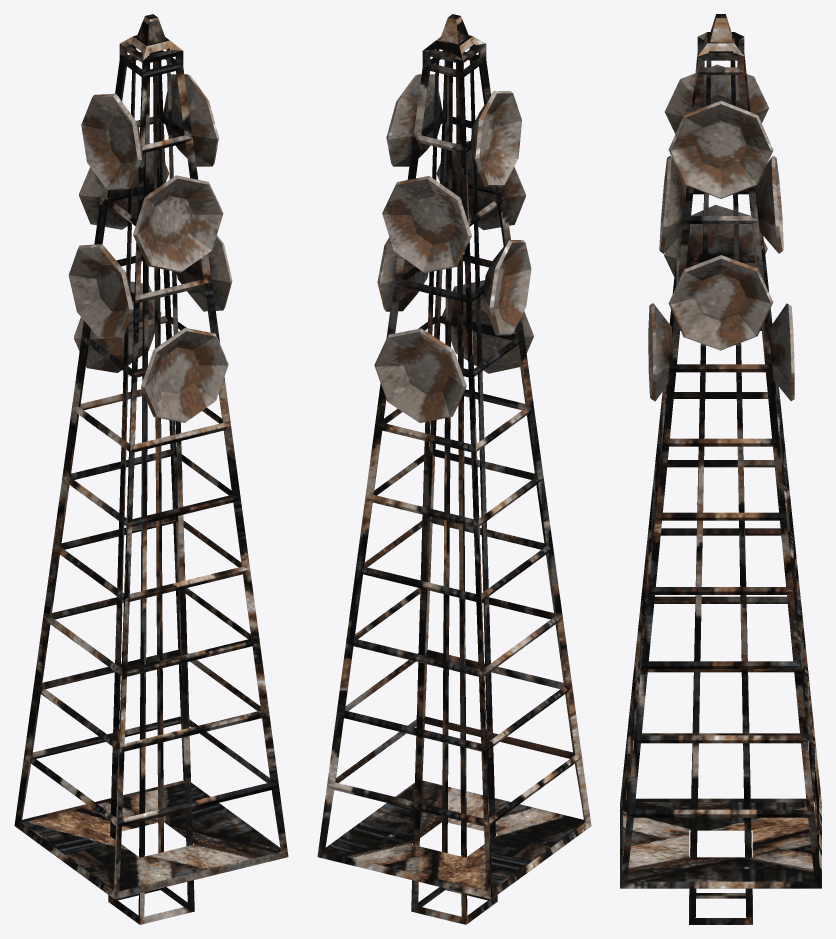
The model's file is Radiotower.fbx.
The picture shows the model from 3 angles, left to right: view 1: azimuth 30°, elevation 25°; view 2: azimuth 150°, elevation 25°; view 3: azimuth 270°, elevation 25°; orthographic projection.
Parts seen in each view (by area): view 1: RadioTower; view 2: RadioTower; view 3: RadioTower.
Boxes of the visible parts, x1=… form: RadioTower: x1=14, y1=14, x2=288, y2=924; RadioTower: x1=317, y1=14, x2=591, y2=924; RadioTower: x1=620, y1=14, x2=821, y2=924.
Bounding box in the file's own units: 394 × 1928 × 394.
Materials: 1 (1 with a texture image).
